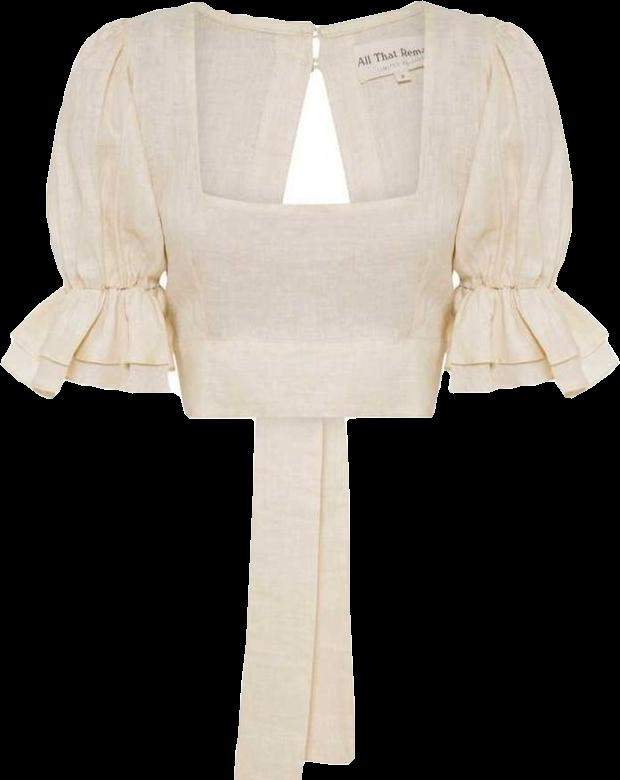Bodice: (124, 2, 493, 419)
Neckline: (189, 0, 436, 211)
Sleeve: (0, 14, 179, 398), (443, 18, 619, 398)
Sleeveline: (121, 13, 175, 263), (454, 18, 500, 250), (62, 276, 164, 295), (458, 272, 558, 289)
Waistline: (184, 406, 437, 419)
